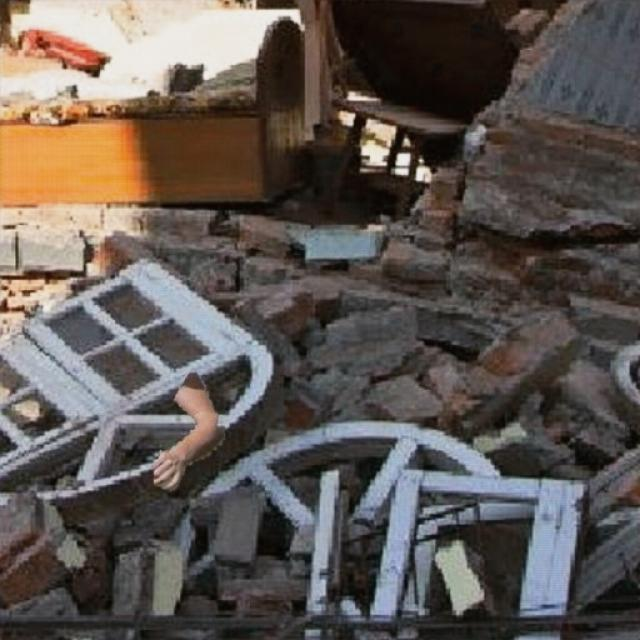Person in Rubble: (154, 372, 224, 490)
